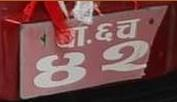2: (98, 39, 150, 75)
4: (32, 51, 89, 88)
6: (94, 22, 114, 42)
ba: (54, 25, 89, 49)
cha: (115, 19, 141, 40)
